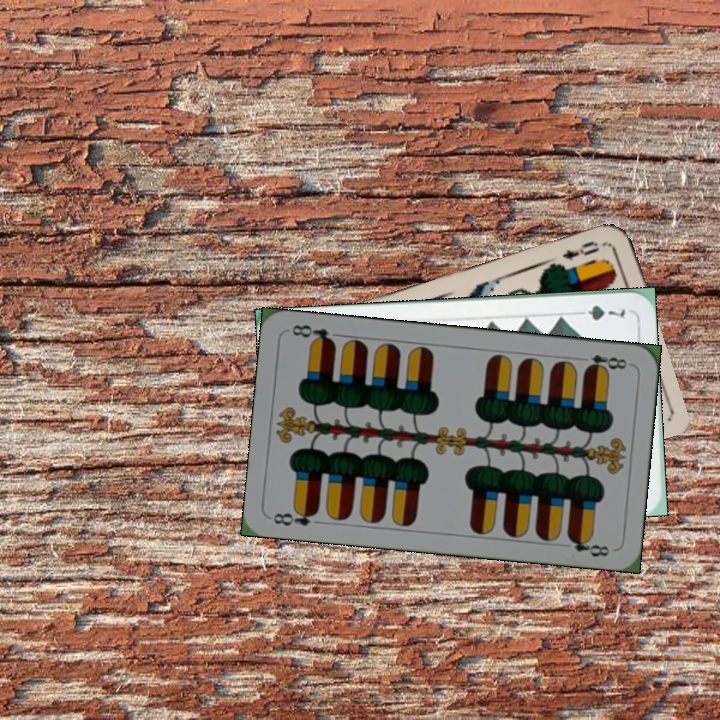E8: (574, 350, 633, 375), (269, 504, 321, 529)
EO: (557, 236, 603, 264)
G7: (570, 301, 628, 323)
